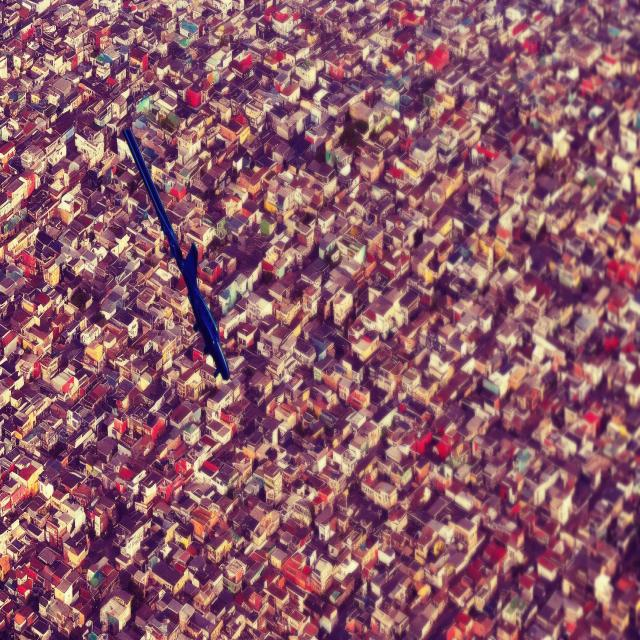airplane: (122, 125, 230, 382)
